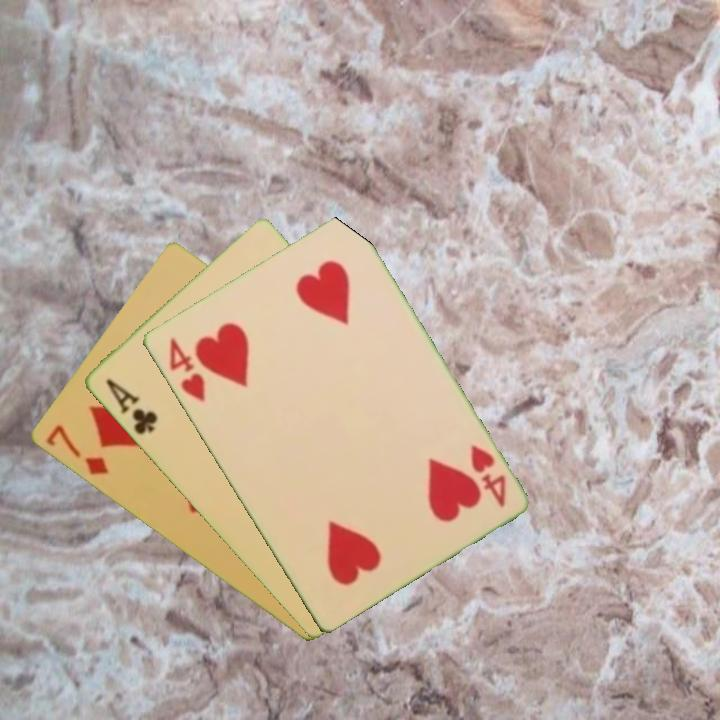4h: (165, 333, 208, 406), (466, 441, 509, 510)
7d: (42, 421, 111, 479)
Ac: (101, 375, 160, 438)
